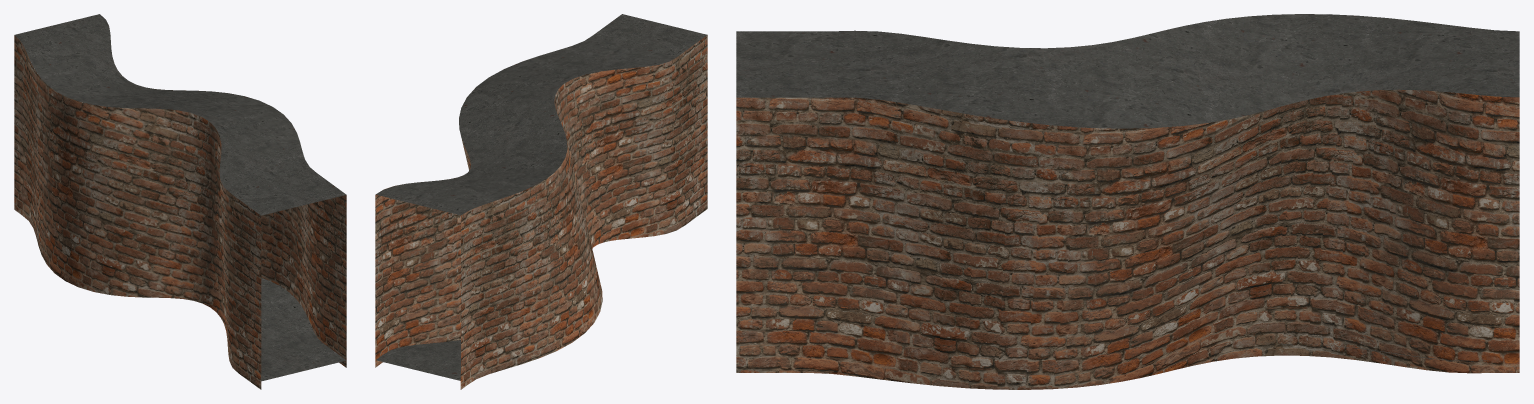
Rendered from unstraight.fbx.
3 renders of one model, left to right at view 1: azimuth 30°, elevation 25°; view 2: azimuth 150°, elevation 25°; view 3: azimuth 270°, elevation 25°, orthographic. The views are drawn at different scales.
Parts seen in each view (by area): view 1: outer_wall2.001, ceiling2.001, inner_wall2.001, floor2.001; view 2: outer_wall2.001, ceiling2.001, inner_wall2.001, floor2.001; view 3: inner_wall2.001, ceiling2.001.
Boxes of the visible parts, x1,y1,x2,y2 form: outer_wall2.001: (14,35,261,389); ceiling2.001: (14,14,346,215); inner_wall2.001: (102,16,346,367); floor2.001: (261,278,346,381); outer_wall2.001: (460,35,707,389); ceiling2.001: (376,14,707,215); inner_wall2.001: (375,140,470,367); floor2.001: (375,340,460,380); inner_wall2.001: (736,89,1519,389); ceiling2.001: (736,14,1519,128).
Size of the model in its own units: 1.85 by 2.2 by 5.
